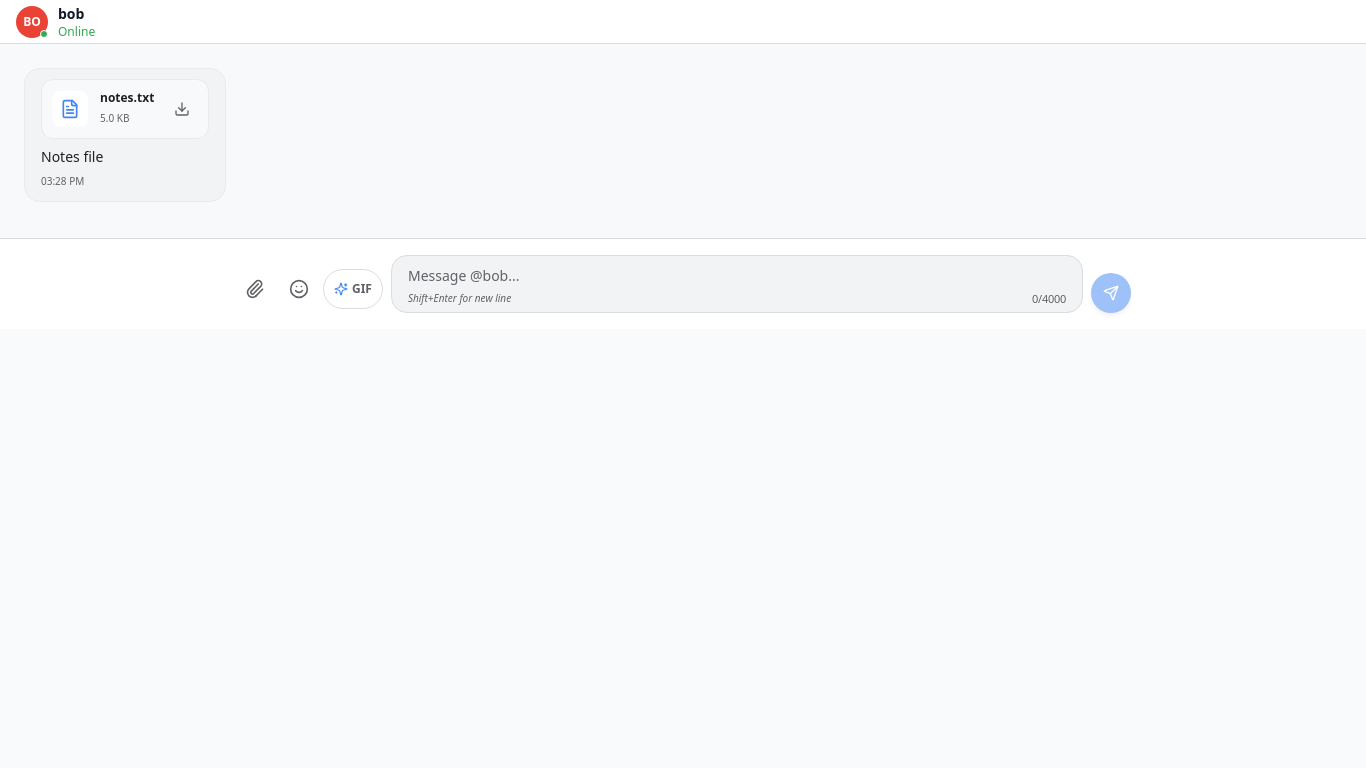
Scenario: File Attachments, Image Preview & Message Cards › In-App Document Preview Modal (Ticket 03) › fetches and displays text document in monospace pre container
This screenshot has width=1366, height=768.
What coordinates should you click on to do the following:
click the element with test id "document-attachment-card"
I would click on:
 (125, 109)
Its box is [41, 79, 209, 139].
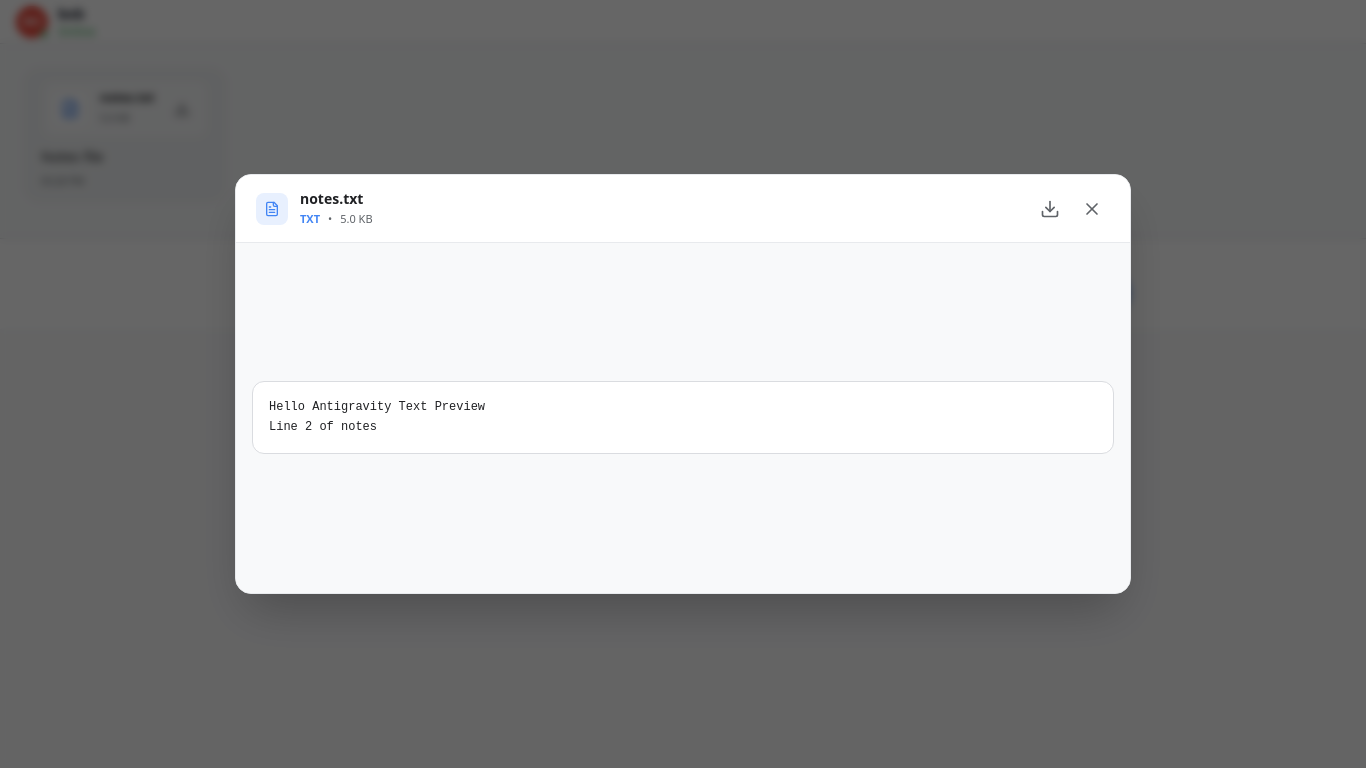
expect the text "Hello Antigravity Text Preview Line 2 of notes" is shown: met, box [252, 381, 1114, 454]
expect the text with test id "text-preview-content" shows "Hello Antigravity Text Preview": met, box [269, 400, 485, 434]
expect the text with test id "text-preview-content" shows "Line 2 of notes": met, box [269, 400, 485, 434]
